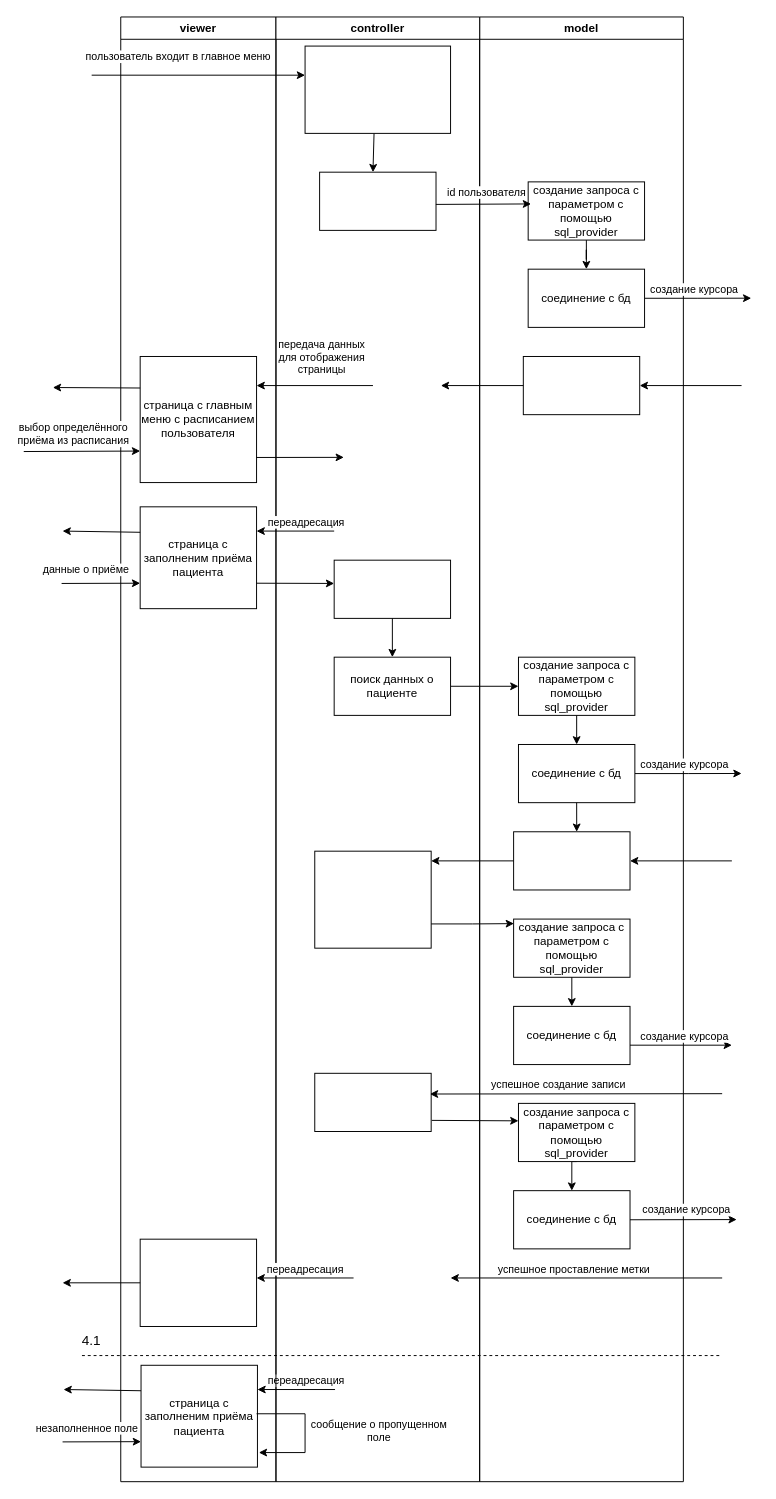
Some shapes in this 776 by 1499 pixel diagram are drawn without their labels. Here are the shapes that lost their labels. From the top down, the box of each, then its label:
(304, 45, 451, 133): вынимание личных данных пользователя из сессии
(319, 171, 436, 230): вынимание расписание пользователя на сегодняшний день
(522, 356, 640, 415): получение расписание пользователя
(333, 559, 451, 618): получение данных о приёме
(513, 831, 630, 890): получение данные о пациенте
(314, 850, 431, 948): создание записи о приёме
(314, 1072, 431, 1132): проставление метки о проведении приёма
(139, 1238, 257, 1326): страница с главным меню с обновлённым расписанием пользователя
